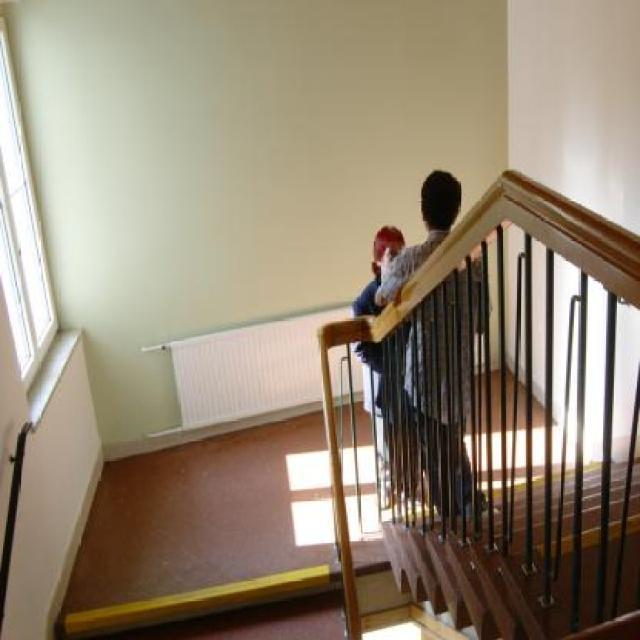stair: (381, 447, 640, 640), (52, 560, 351, 640)
